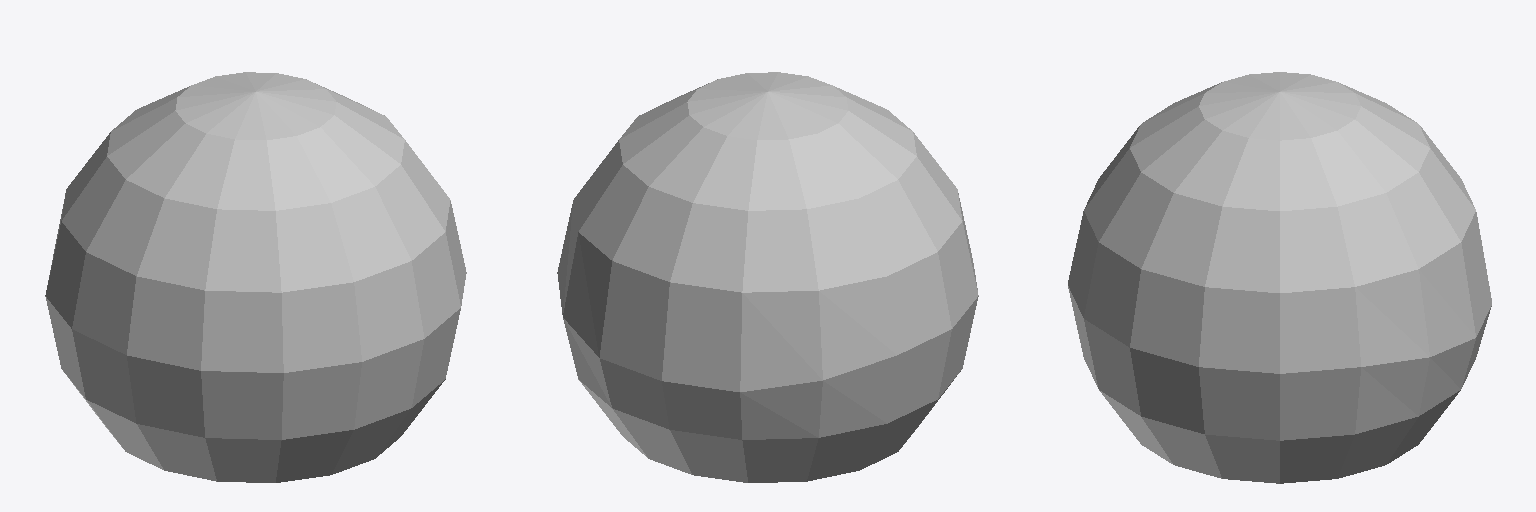
The model's file is helmet.obj.
3 views of the same model, side by side, from view 1: azimuth 30°, elevation 25°; view 2: azimuth 150°, elevation 25°; view 3: azimuth 270°, elevation 25° (orthographic).
Parts seen in each view (by area): view 1: Helmet; view 2: Helmet; view 3: Helmet.
Part boxes in pixels (bbox=[...]): Helmet: bbox=[45, 72, 466, 482]; Helmet: bbox=[557, 72, 978, 482]; Helmet: bbox=[1068, 72, 1491, 483].
Size of the model in its own units: 4 by 3.41 by 4.